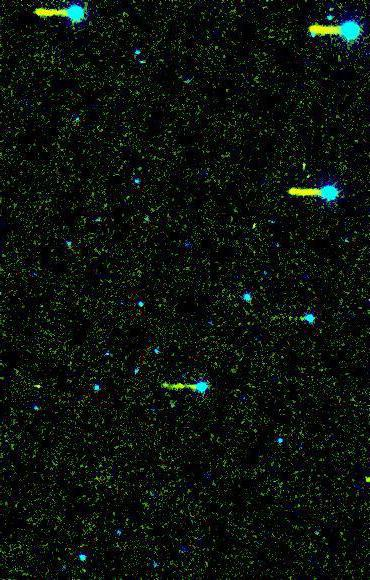star: (24, 372, 54, 402)
